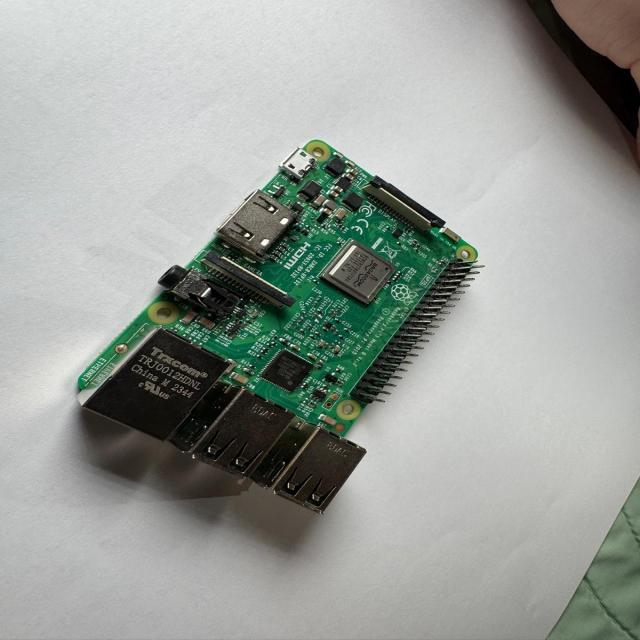CPU: (316, 242, 397, 308)
Ethernet: (72, 323, 240, 446)
GPIO: (346, 256, 491, 410)
HDMI: (213, 192, 294, 253)
RAM-3: (258, 349, 315, 394)
Raspberry: (75, 140, 479, 514)
